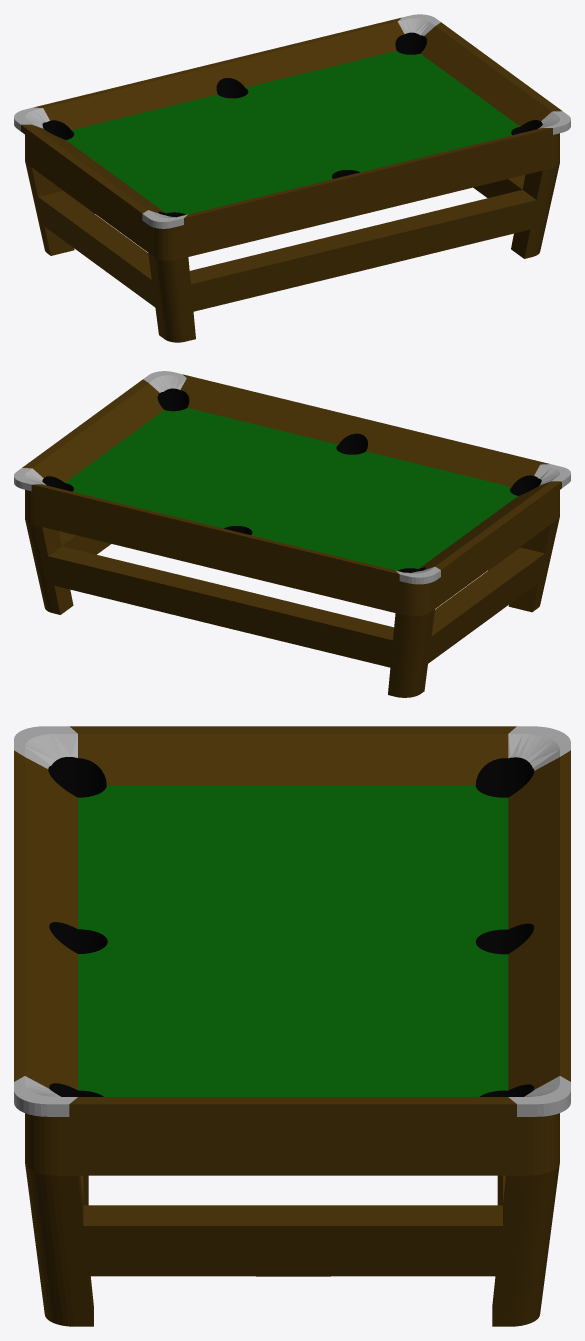
Rendered from Billar.fbx.
3 renders of one model, top to bottom at view 1: azimuth 30°, elevation 25°; view 2: azimuth 150°, elevation 25°; view 3: azimuth 270°, elevation 25°, orthographic. The views are drawn at different scales.
Visible parts, largest first — view 1: Billar:Material_002_material, Billar:Material_001_material, Billar:Material_004_material, Billar:Material_003_material; view 2: Billar:Material_002_material, Billar:Material_001_material, Billar:Material_004_material, Billar:Material_003_material; view 3: Billar:Material_002_material, Billar:Material_001_material, Billar:Material_004_material, Billar:Material_003_material.
Part boxes in pixels (x1,y1,x2,y2): Billar:Material_002_material: [21, 17, 561, 342]; Billar:Material_001_material: [66, 51, 519, 214]; Billar:Material_004_material: [14, 14, 570, 228]; Billar:Material_003_material: [42, 32, 542, 217]; Billar:Material_002_material: [22, 374, 561, 697]; Billar:Material_001_material: [65, 408, 517, 570]; Billar:Material_004_material: [14, 371, 570, 584]; Billar:Material_003_material: [42, 388, 541, 572]; Billar:Material_002_material: [14, 726, 570, 1326]; Billar:Material_001_material: [78, 785, 508, 1096]; Billar:Material_004_material: [14, 726, 570, 1116]; Billar:Material_003_material: [48, 757, 534, 1096].
Bounding box in the file's own units: 797 × 239 × 496.
